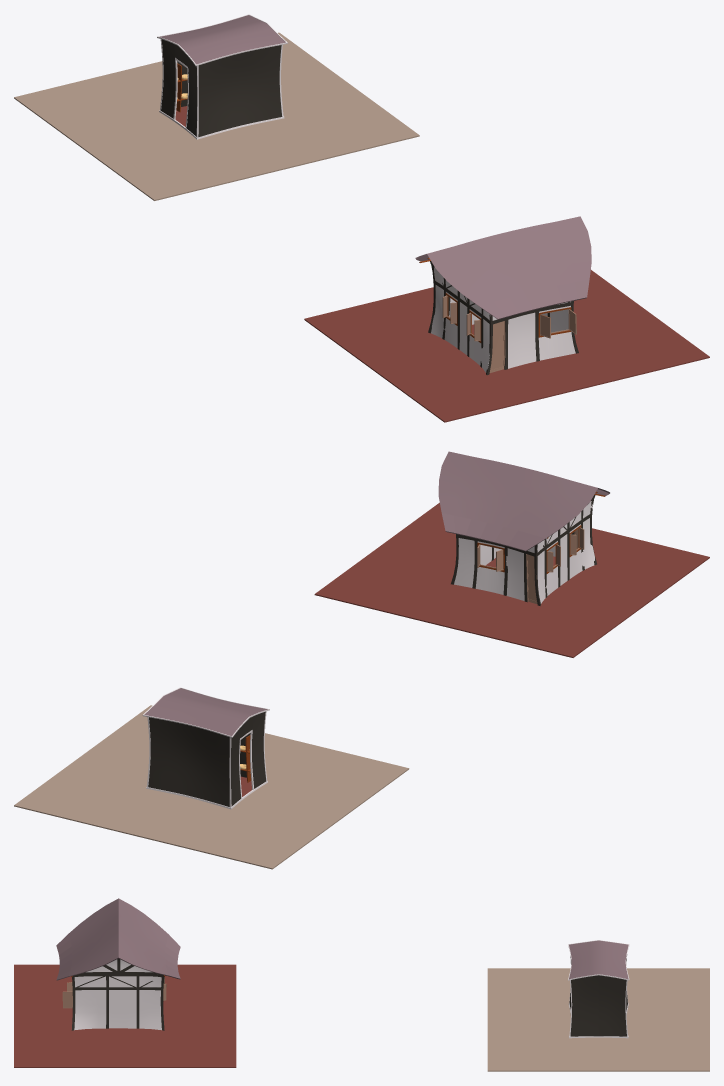
File: GHO.fbx
The picture shows the model from 3 angles, top to bottom: view 1: azimuth 30°, elevation 25°; view 2: azimuth 150°, elevation 25°; view 3: azimuth 270°, elevation 25°; orthographic projection. The views are drawn at different scales.
Parts seen in each view (by area): view 1: Box057, Box001, Line082, Wall009, Wall008, Box035, Line076, Line088, PivotDoor007; view 2: Box057, Box001, Line082, Wall009, Wall008, Box035, Line076, Line088; view 3: Box057, Box001, Line082, Wall008, Wall009, Box035, Line076, Line088.
Part boxes in pixels (<box>): Box057: <box>14,32,419,200</box>; Box001: <box>304,270,709,422</box>; Line082: <box>415,216,591,319</box>; Wall009: <box>161,39,281,137</box>; Wall008: <box>431,267,575,372</box>; Box035: <box>159,15,285,64</box>; Line076: <box>428,261,578,375</box>; Line088: <box>157,14,287,139</box>; PivotDoor007: <box>489,321,505,372</box>; Box057: <box>14,705,409,869</box>; Box001: <box>314,503,709,657</box>; Line082: <box>438,451,609,551</box>; Wall009: <box>148,711,266,806</box>; Wall008: <box>454,501,594,603</box>; Box035: <box>144,688,267,736</box>; Line076: <box>451,495,596,605</box>; Line088: <box>142,687,269,809</box>; Box057: <box>487,968,709,1071</box>; Box001: <box>14,964,236,1067</box>; Line082: <box>56,898,180,980</box>; Wall008: <box>74,959,161,1030</box>; Wall009: <box>569,957,627,1036</box>; Box035: <box>569,940,628,979</box>; Line076: <box>71,958,165,1030</box>; Line088: <box>568,940,629,1038</box>.
Size of the model in its own units: 1242 by 479 by 3445.
